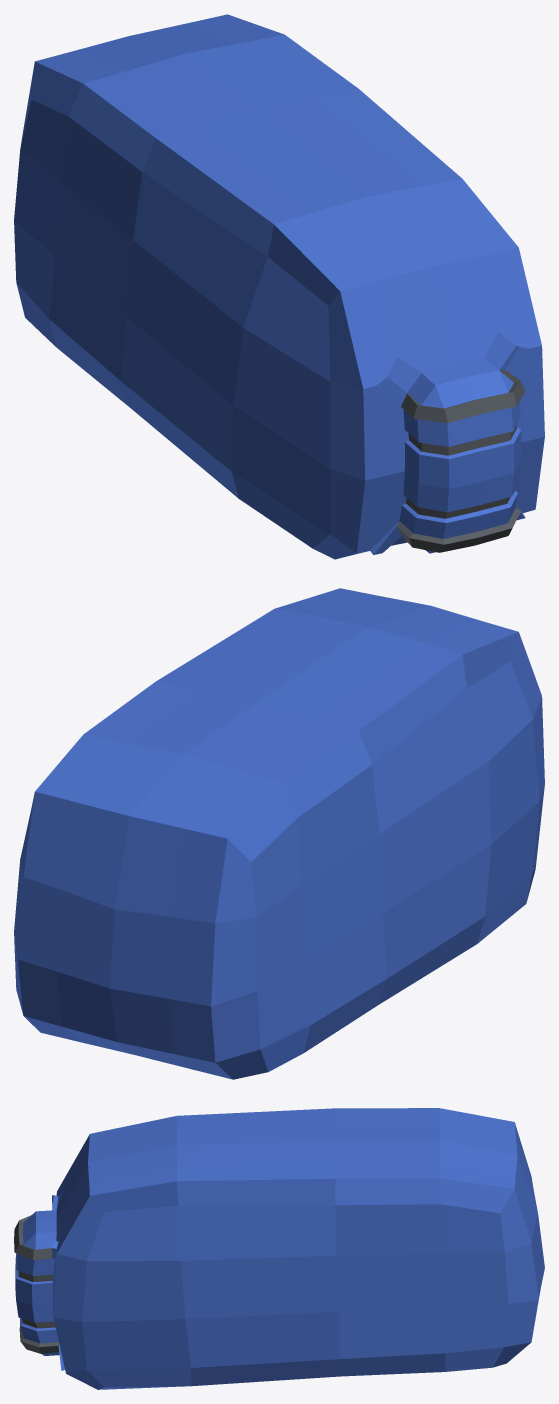
The model's file is Personal_Vehicle_02_Front_Body_Blue.fbx.
3 views of the same model, one above another, from view 1: azimuth 30°, elevation 25°; view 2: azimuth 150°, elevation 25°; view 3: azimuth 270°, elevation 25° (orthographic). The views are drawn at different scales.
Parts seen in each view (by area): view 1: Personal_Vehicle_02_Front_Body_Blue; view 2: Personal_Vehicle_02_Front_Body_Blue; view 3: Personal_Vehicle_02_Front_Body_Blue.
Boxes of the visible parts, x1,y1,x2,y2 form: Personal_Vehicle_02_Front_Body_Blue: [14, 14, 544, 559]; Personal_Vehicle_02_Front_Body_Blue: [14, 588, 544, 1079]; Personal_Vehicle_02_Front_Body_Blue: [14, 1108, 544, 1389].
Bounding box in the file's own units: 83.05 × 92.09 × 202.
1 material, 1 textured.
